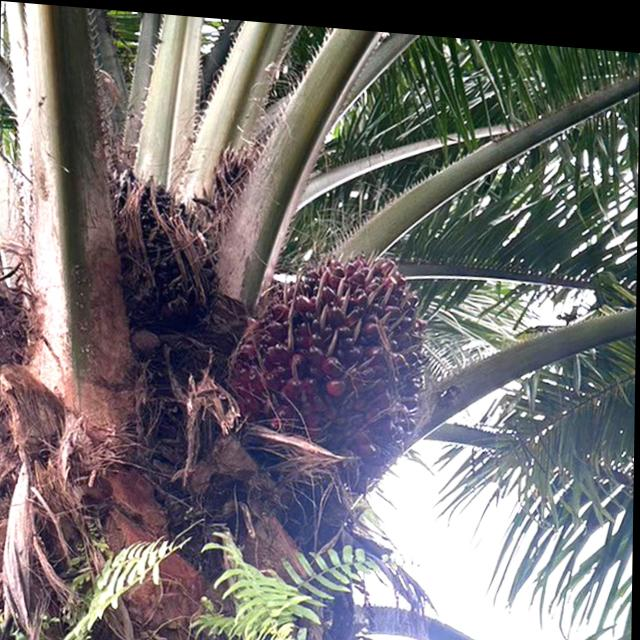ripe: (230, 232, 442, 480), (101, 153, 224, 339)
